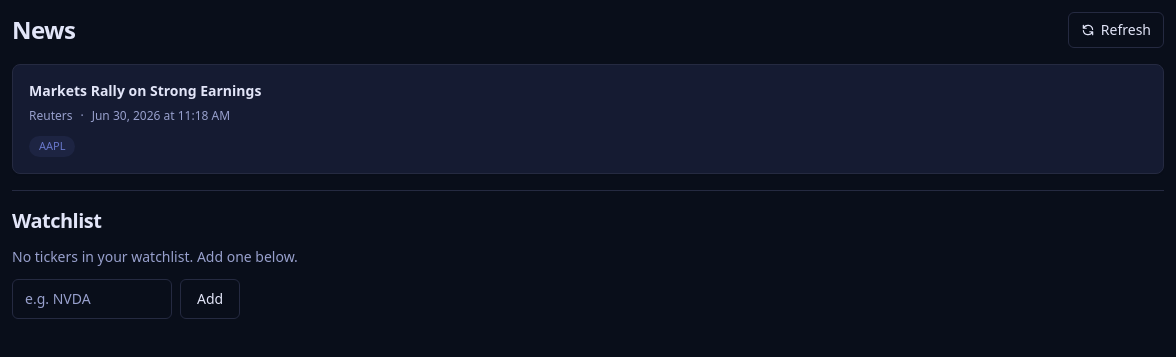
Test: News tab › shows validation error for an invalid ticker (with special chars)
Type "AA BB" into the field named "ticker symbol to add to watchlist" at point(92, 299), box [12,279,172,319]
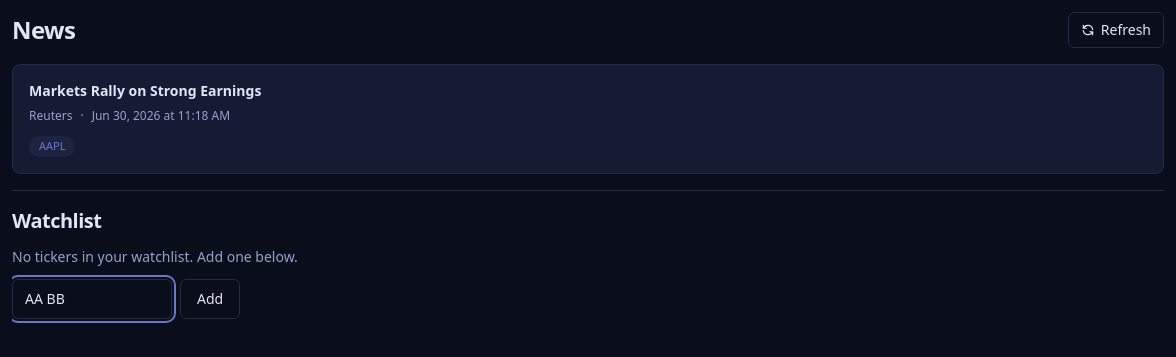
Click the button "Add" at point(210, 299), box [180,279,240,319]
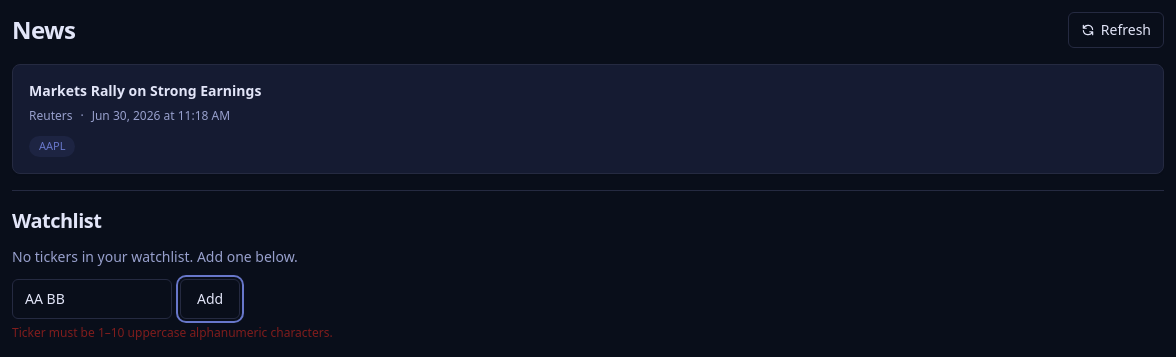
expect the message shows "Ticker must be": met, box [12,324,333,341]
